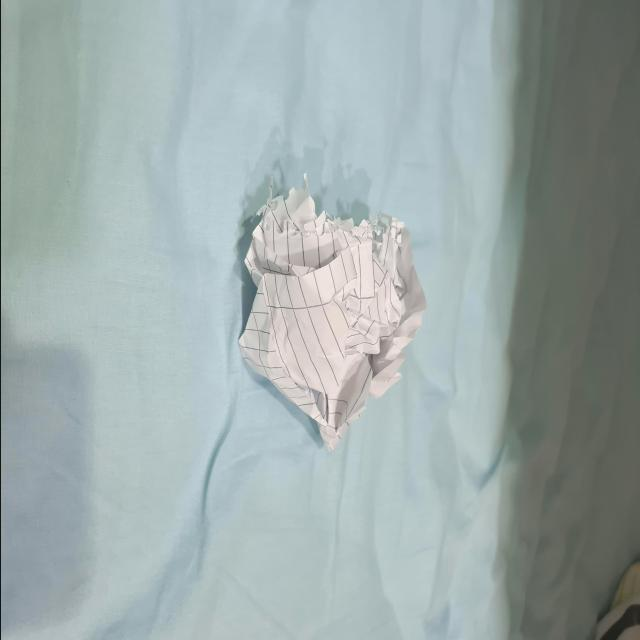Paper: (221, 176, 441, 462)
